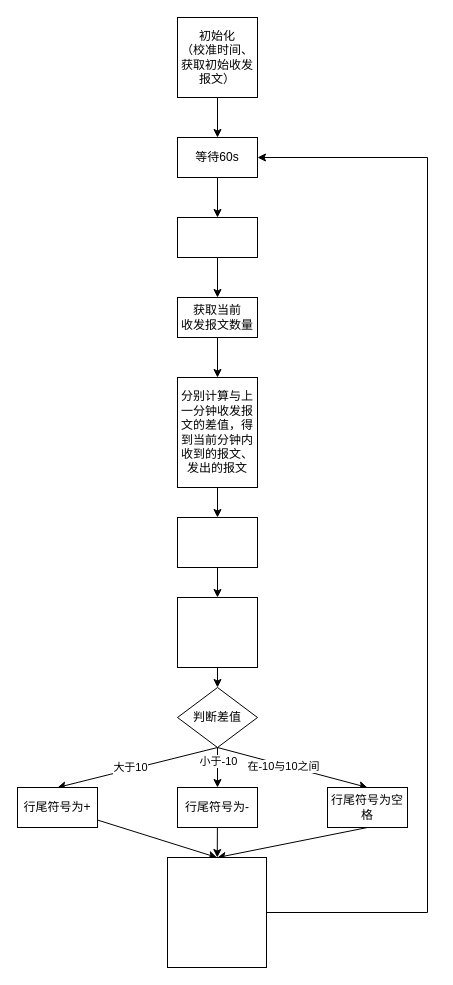
Image size: 453x985. Some labels were removed from this diagram. The shapes that lost their labels are listed below. From the top down, each one's centre as x and y in pixels, then its label:
At [217,237]: "获取时间".
At [217,542]: "计算当前分钟内收发报文的总数".
At [217,632]: "计算当前分钟内与上一分钟内收发报文的总数的差值".
At [216,912]: "打印当前时间、当前分钟内收到的报文、发出的报文、收发报文总数、与上一分钟的变化符号".
